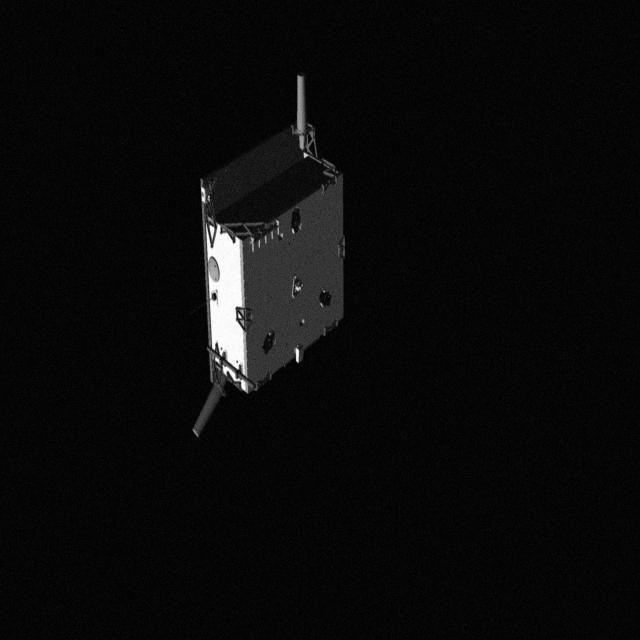medium_debris: (186, 72, 360, 438)
